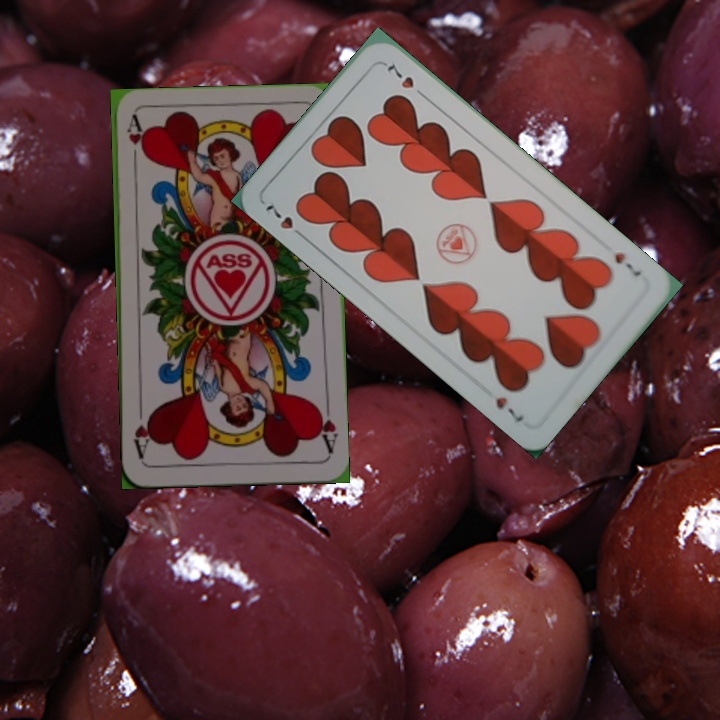H7: (261, 198, 309, 242), (610, 248, 644, 279)
HA: (312, 398, 340, 457), (123, 113, 146, 172)
